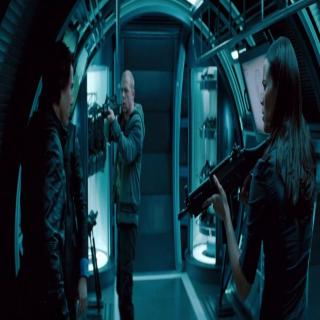gun: (178, 120, 274, 247), (99, 83, 120, 124)
